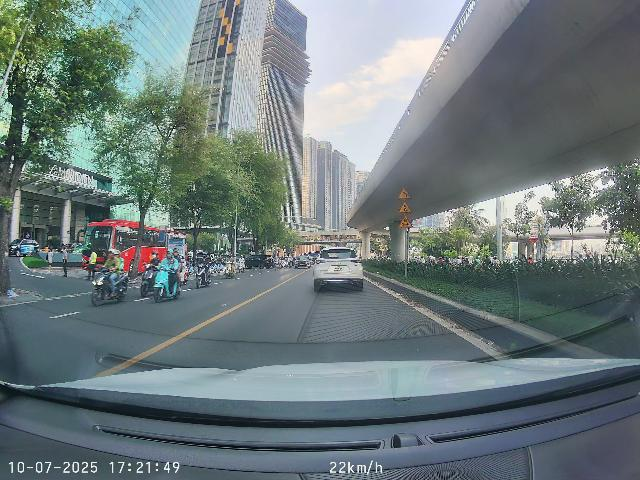201-cho-ngoat-nguy-hiem: (397, 186, 411, 199)
224-duong-nguoi-di-bo-cat-ngang: (398, 200, 412, 213)
245-di-cham: (399, 215, 413, 228)
